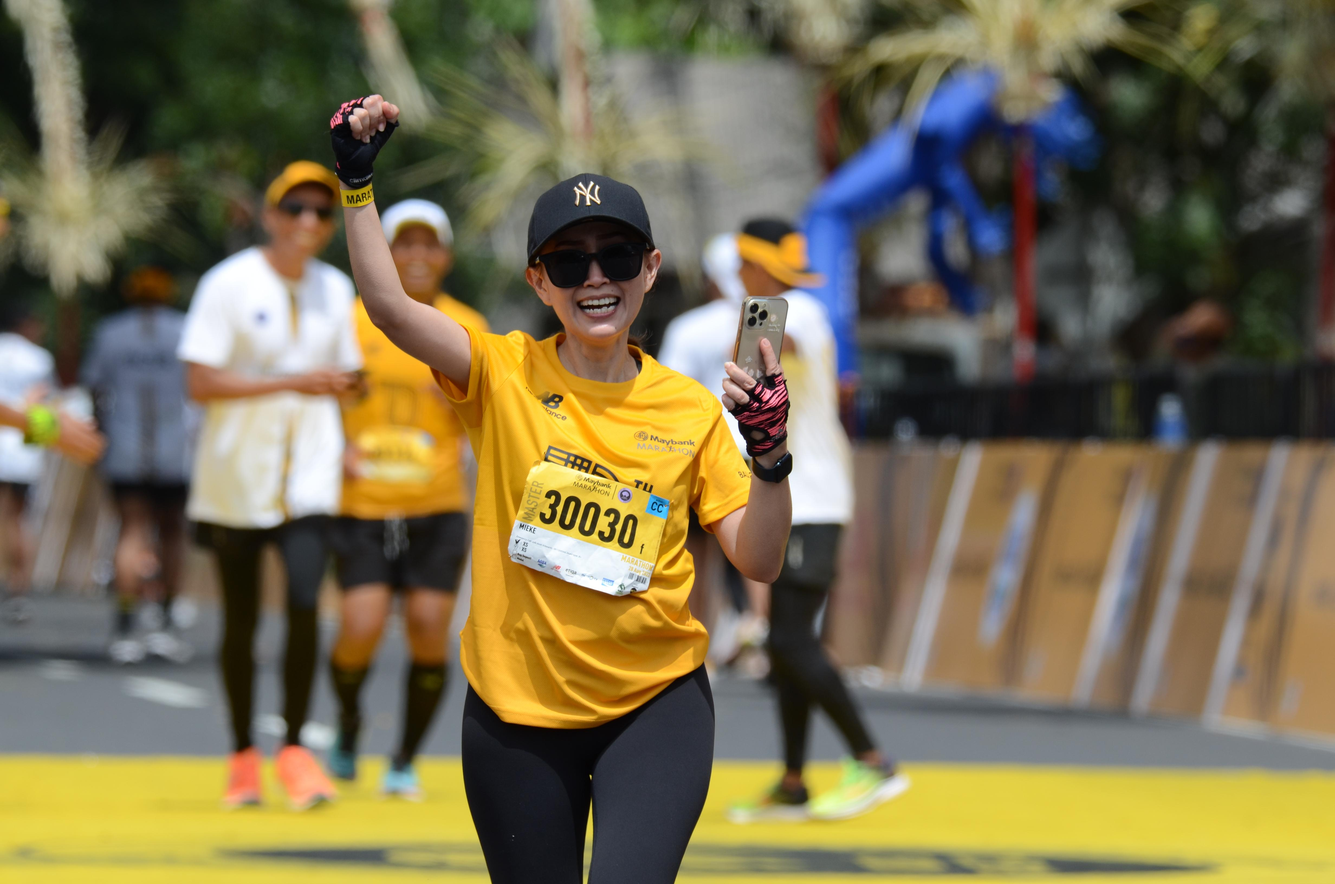bib: (503, 459, 666, 596), (352, 425, 433, 486)
